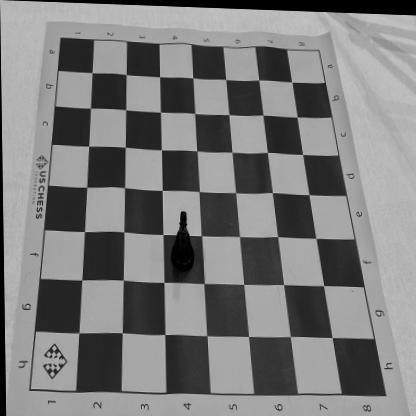black-knight: (169, 208, 194, 271)
